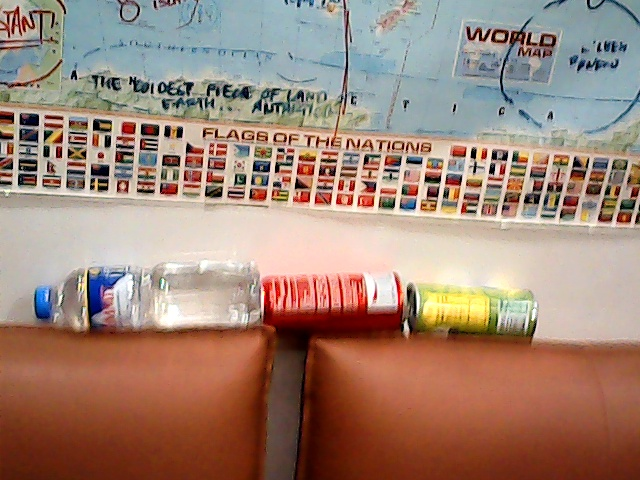Cola: (260, 264, 408, 345)
Pine Juice: (406, 287, 548, 342)
Summit Water: (30, 252, 268, 341)
